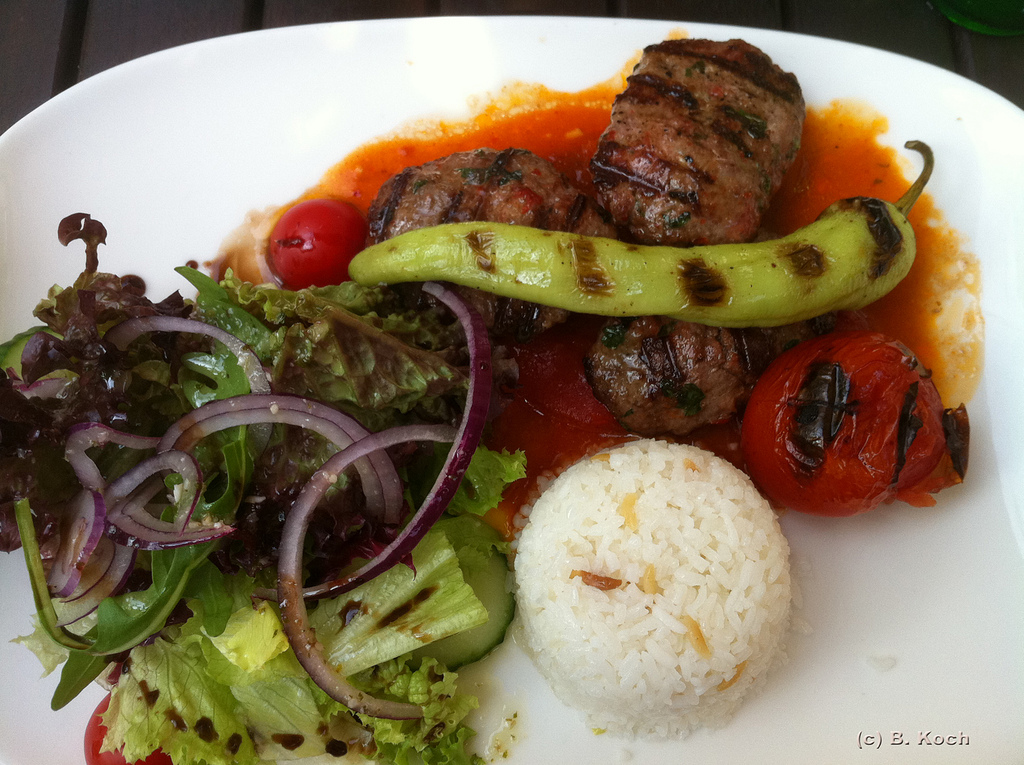chopped lettuce: (110, 555, 466, 759), (213, 279, 444, 402)
meatballs: (595, 40, 814, 242), (372, 175, 586, 334), (601, 316, 745, 437)
plain rice: (517, 476, 789, 727)
